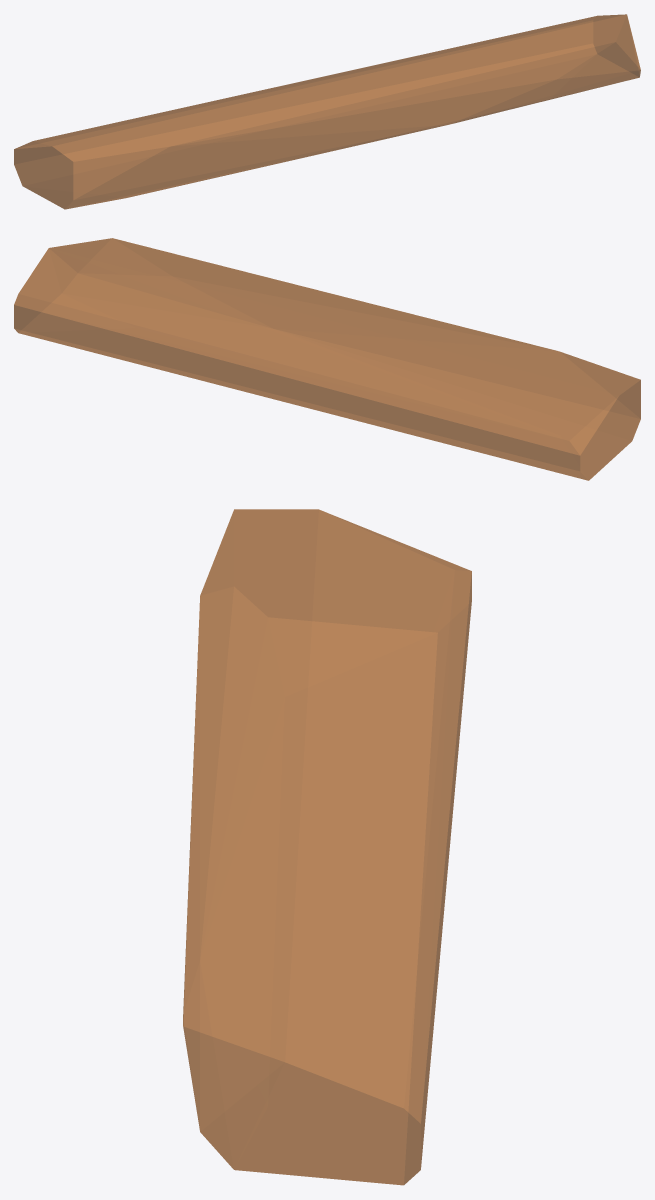
The picture shows the model from 3 angles, top to bottom: view 1: azimuth 30°, elevation 25°; view 2: azimuth 150°, elevation 25°; view 3: azimuth 270°, elevation 25°; orthographic projection. The views are drawn at different scales.
Parts seen in each view (by area): view 1: Shape_IndexedFaceSet.023_Shape_IndexedFaceSet.2984; view 2: Shape_IndexedFaceSet.023_Shape_IndexedFaceSet.2984; view 3: Shape_IndexedFaceSet.023_Shape_IndexedFaceSet.2984.
Part boxes in pixels (<box>): Shape_IndexedFaceSet.023_Shape_IndexedFaceSet.2984: <box>14,14,640,209</box>; Shape_IndexedFaceSet.023_Shape_IndexedFaceSet.2984: <box>14,238,640,480</box>; Shape_IndexedFaceSet.023_Shape_IndexedFaceSet.2984: <box>183,509,471,1185</box>.
Bounding box in the file's own units: 0.18 × 0.0187 × 0.0397.
